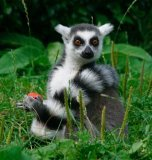cat: (15, 22, 125, 142)
